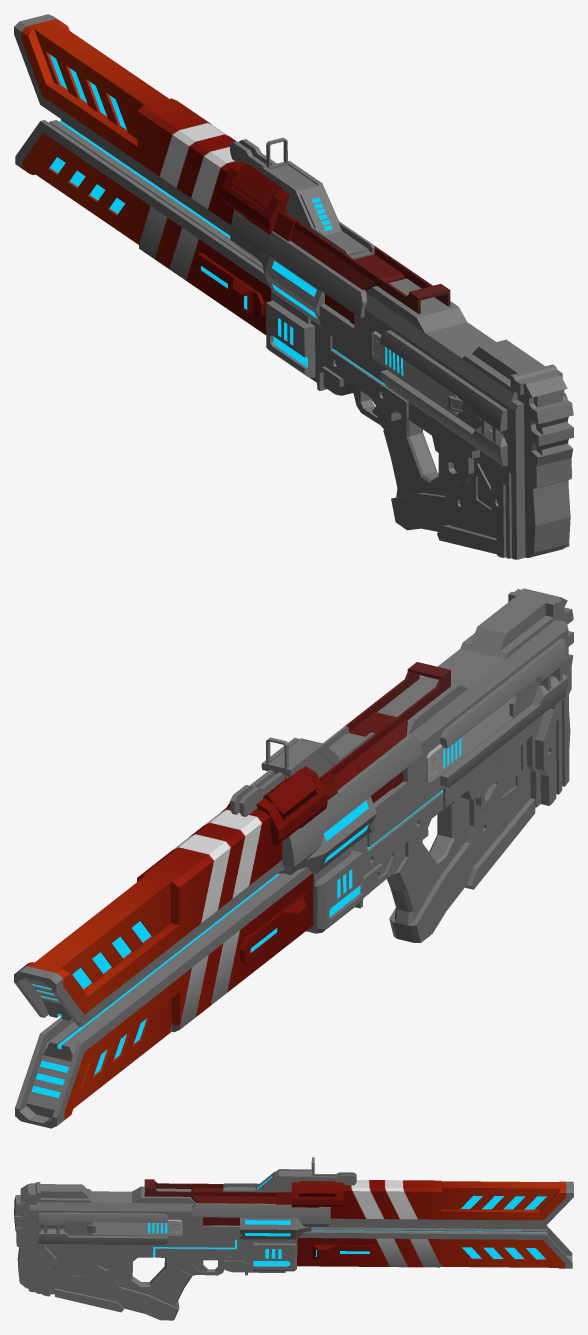
File: remake_235.glb
3 renders of one model, top to bottom at view 1: azimuth 30°, elevation 25°; view 2: azimuth 150°, elevation 25°; view 3: azimuth 270°, elevation 25°, orthographic. The views are drawn at different scales.
Visible parts, largest first — view 1: remake_235; view 2: remake_235; view 3: remake_235.
Boxes of the visible parts, bbox=[...] form: remake_235: bbox=[14, 14, 573, 559]; remake_235: bbox=[14, 588, 573, 1128]; remake_235: bbox=[14, 1157, 573, 1320].
Size of the model in its own units: 0.1027 by 0.3919 by 1.27.
4 materials, 1 textured.
